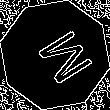M_SW: (21, 22, 89, 88)
